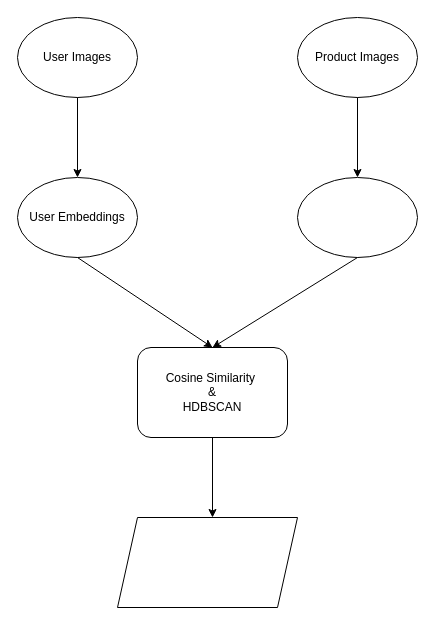
Some shapes in this 435 by 625 pixel diagram are drawn without their labels. The shapes that lost their labels are listed below. From the top down, each one's box as (x1, y1, x2, y2) in pixels, then its label:
(296, 176, 418, 258): Product Embeddings
(116, 516, 298, 608): Output Fashion Reccomendations
